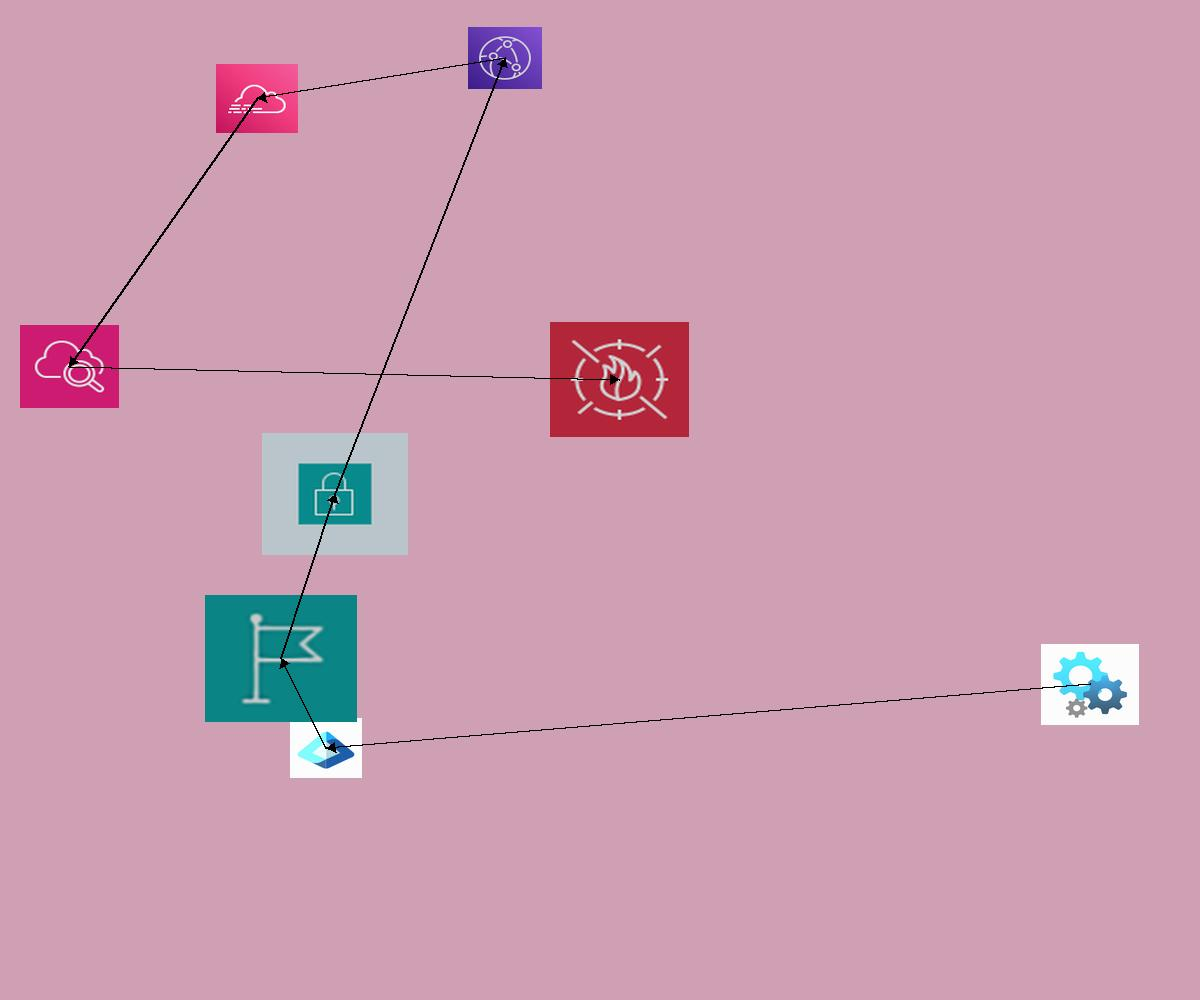AWS-CloudFront: (468, 27, 542, 89)
AWS-CloudTrail: (216, 64, 298, 133)
AWS-CloudWatch: (20, 325, 119, 408)
AWS-Private-subnet: (262, 433, 408, 555)
AWS-Region: (205, 595, 357, 722)
AWS-WAF: (550, 322, 689, 437)
Azure_api: (1041, 644, 1139, 725)
Azure_microsoft_entra: (290, 718, 362, 778)
